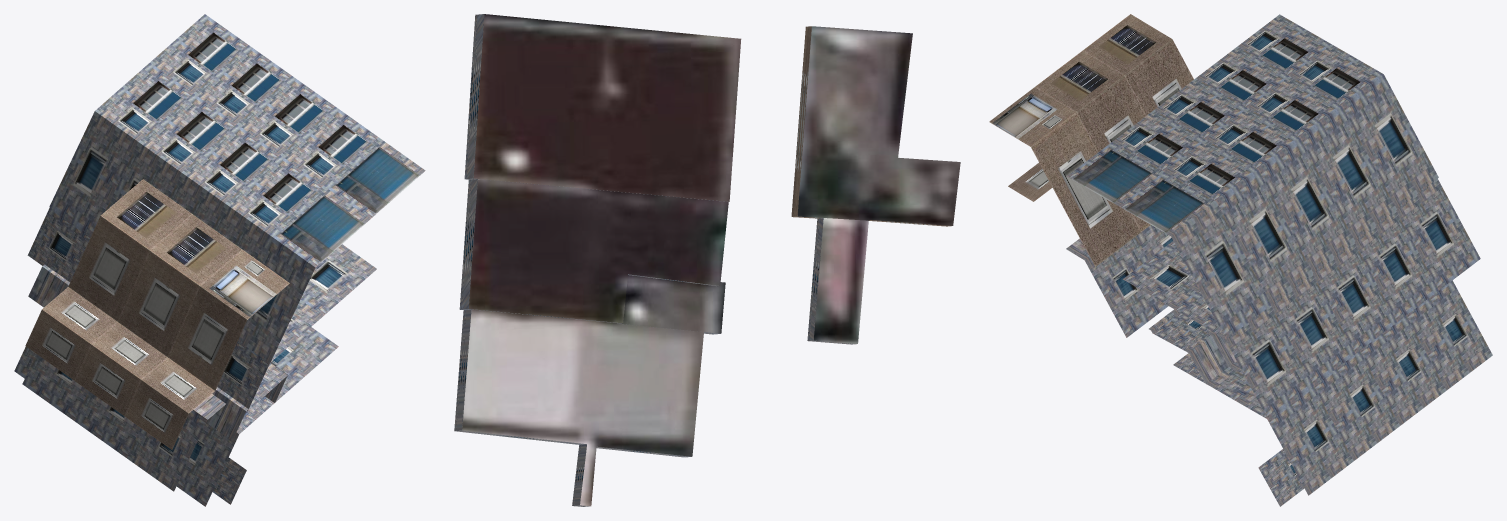
3 views of the same model, side by side, from view 1: azimuth 30°, elevation 25°; view 2: azimuth 150°, elevation 25°; view 3: azimuth 270°, elevation 25° (orthographic). The views are drawn at different scales.
Bounding box in the file's own units: 25.71 × 27.31 × 28.1.
Materials: 18 (18 with a texture image).
